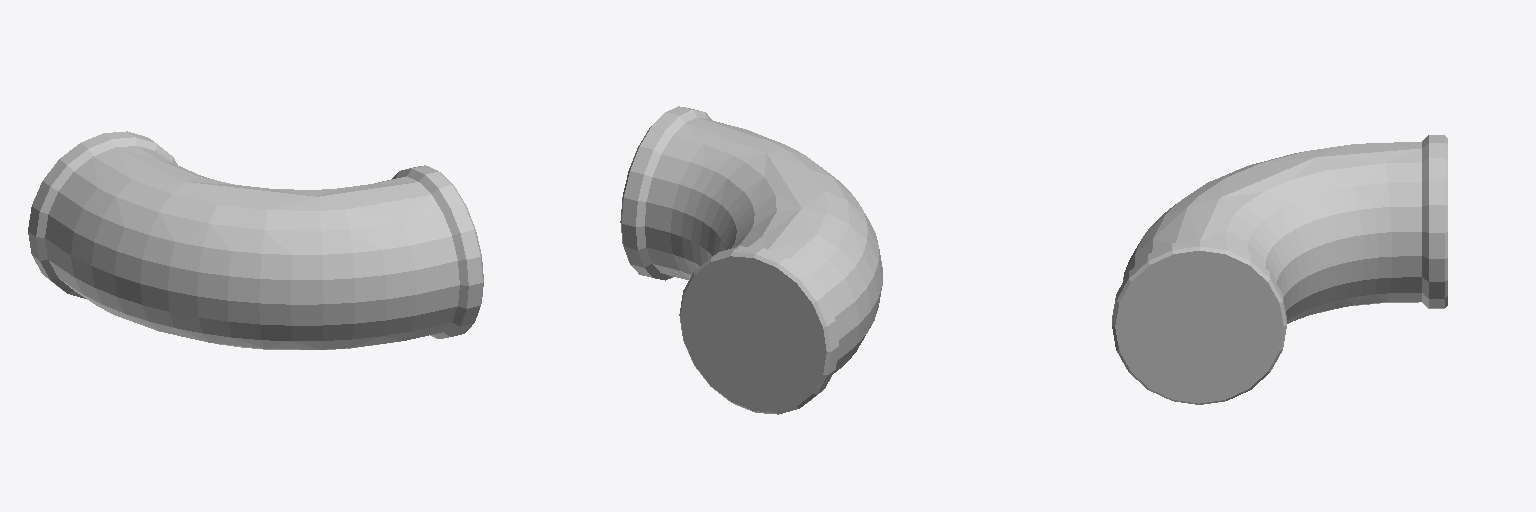
File: Pipe90b.obj
The picture shows the model from 3 angles: view 1: azimuth 30°, elevation 25°; view 2: azimuth 150°, elevation 25°; view 3: azimuth 270°, elevation 25°; orthographic projection.
Visible parts, largest first — view 1: Pipe90b; view 2: Pipe90b; view 3: Pipe90b.
Boxes of the visible parts, x1,y1,x2,y2 form: Pipe90b: [28, 131, 483, 349]; Pipe90b: [620, 106, 882, 414]; Pipe90b: [1112, 135, 1447, 404].
Size of the model in its own units: 0.1037 by 0.054 by 0.1037.